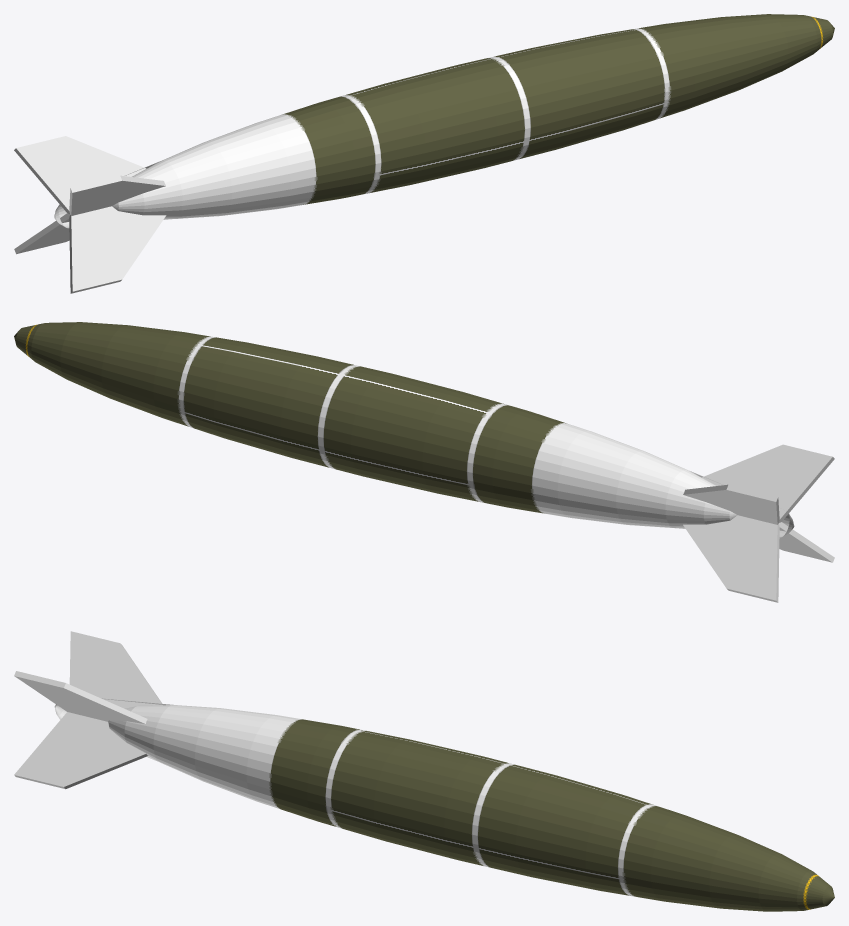
Rendered from f15egbu314.glb.
3 renders of one model, top to bottom at view 1: azimuth 30°, elevation 25°; view 2: azimuth 150°, elevation 25°; view 3: azimuth 330°, elevation 25°, orthographic.
Parts seen in each view (by area): view 1: 立方体.026; view 2: 立方体.026; view 3: 立方体.026.
Boxes of the visible parts, x1,y1,x2,y2 form: 立方体.026: (14, 14, 834, 293); 立方体.026: (14, 322, 834, 602); 立方体.026: (14, 631, 834, 911).
Size of the model in its own units: 3.8 by 0.4884 by 0.4884.
Materials: 1 (1 with a texture image).
